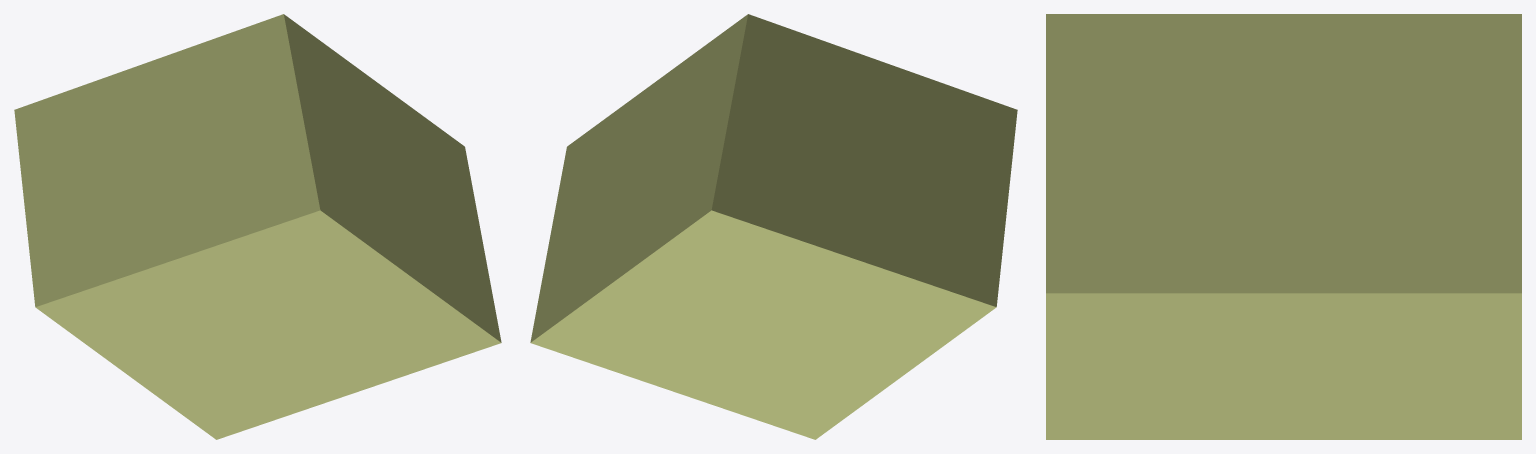
3 views of the same model, side by side, from view 1: azimuth 30°, elevation 25°; view 2: azimuth 150°, elevation 25°; view 3: azimuth 270°, elevation 25° (orthographic). The views are drawn at different scales.
Parts seen in each view (by area): view 1: 0_0_1_2_0_0_3_0_0_1_1; view 2: 0_0_1_2_0_0_3_0_0_1_1; view 3: 0_0_1_2_0_0_3_0_0_1_1.
Boxes of the visible parts, left/top/right/bottom form: 0_0_1_2_0_0_3_0_0_1_1: left=14, top=14, right=501, bottom=439; 0_0_1_2_0_0_3_0_0_1_1: left=530, top=14, right=1017, bottom=439; 0_0_1_2_0_0_3_0_0_1_1: left=1046, top=14, right=1521, bottom=439.
Size of the model in its own units: 5.85 by 4.25 by 6.
